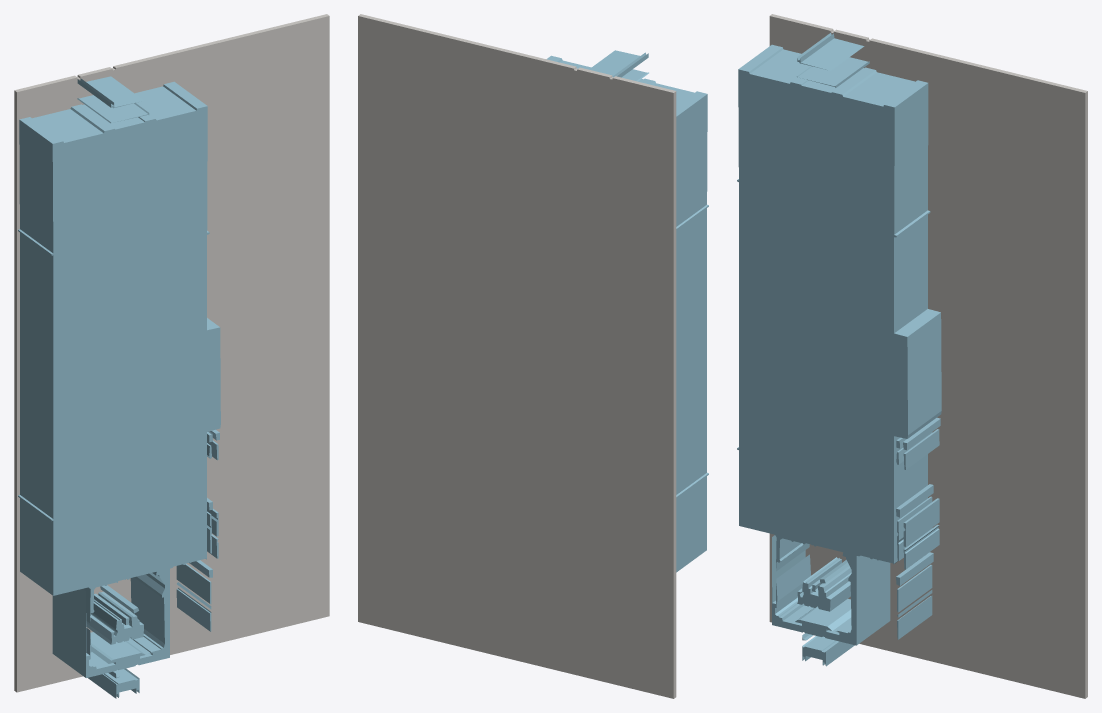
3 views of the same model, side by side, from view 1: azimuth 30°, elevation 25°; view 2: azimuth 150°, elevation 25°; view 3: azimuth 330°, elevation 25° (orthographic).
Parts seen in each view (by area): view 1: world; view 2: world; view 3: world.
Boxes of the visible parts, <box> form: world: <box>14,14,329,698</box>; world: <box>358,14,708,698</box>; world: <box>737,14,1087,698</box>.
Size of the model in its own units: 10.23 by 18.76 by 2.04.
